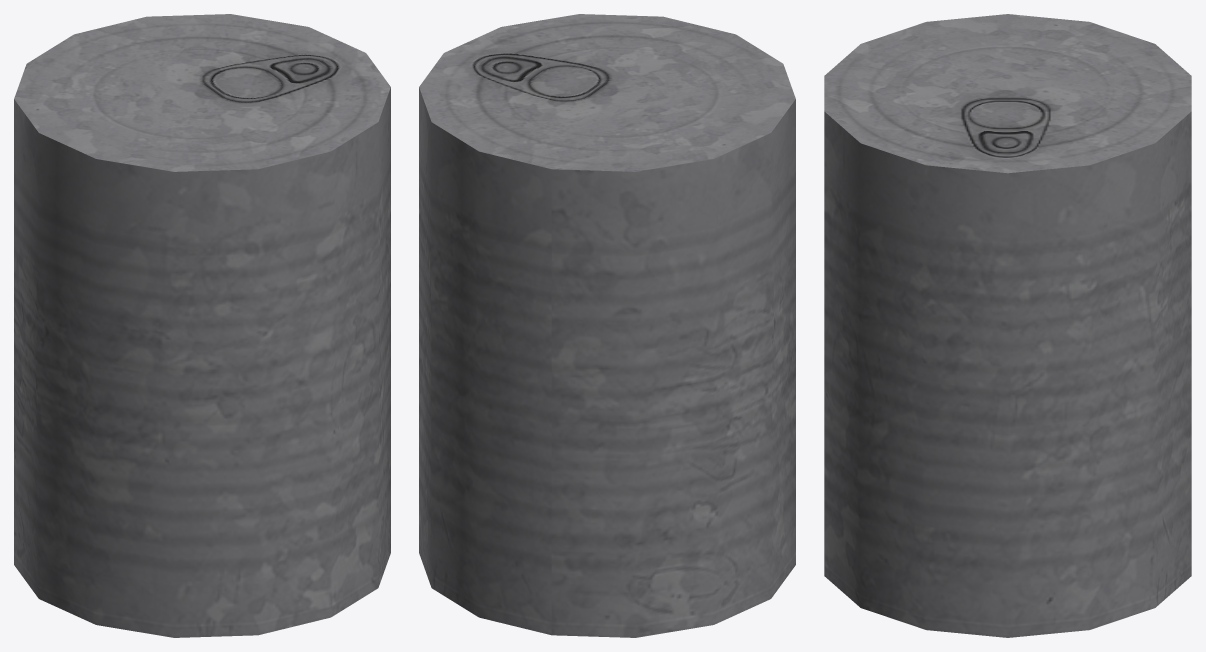
The model's file is Tincan.FBX.
3 views of the same model, side by side, from view 1: azimuth 30°, elevation 25°; view 2: azimuth 150°, elevation 25°; view 3: azimuth 270°, elevation 25° (orthographic).
Parts seen in each view (by area): view 1: Tincan; view 2: Tincan; view 3: Tincan.
Part boxes in pixels (x1,y1,x2,y2): Tincan: (14,14,390,637); Tincan: (419,14,795,637); Tincan: (824,14,1191,637).
Size of the model in its own units: 44.43 by 60.45 by 43.31.
Materials: 1 (1 with a texture image).
